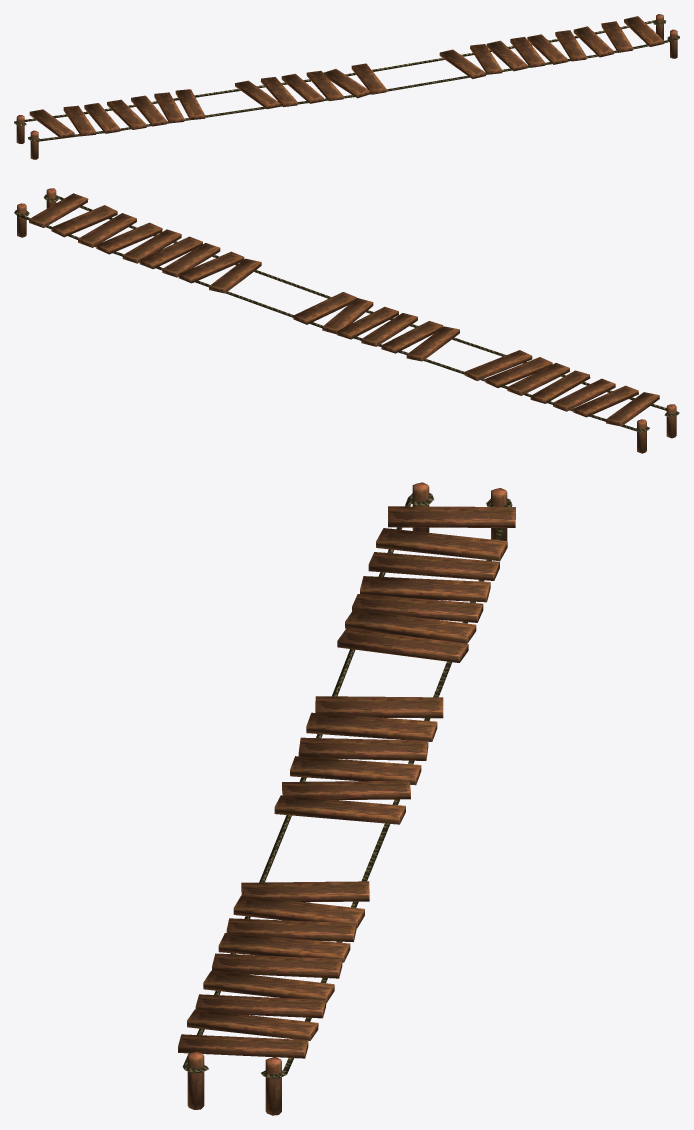
Rendered from SWORDLIGHT20_MAINCAVERNBRIDGE02.fbx.
3 views of the same model, one above another, from view 1: azimuth 30°, elevation 25°; view 2: azimuth 150°, elevation 25°; view 3: azimuth 270°, elevation 25° (orthographic). The views are drawn at different scales.
Visible parts, largest first — view 1: SWORDLIGHT20_MAINCAVERNBRIDGE02; view 2: SWORDLIGHT20_MAINCAVERNBRIDGE02; view 3: SWORDLIGHT20_MAINCAVERNBRIDGE02.
Boxes of the visible parts, left/top/right/bottom form: SWORDLIGHT20_MAINCAVERNBRIDGE02: left=14, top=14, right=679, bottom=159; SWORDLIGHT20_MAINCAVERNBRIDGE02: left=14, top=188, right=679, bottom=453; SWORDLIGHT20_MAINCAVERNBRIDGE02: left=178, top=482, right=515, bottom=1115.
Bounding box in the file's own units: 162694 × 7219 × 39649.
4 materials, 4 textured.
